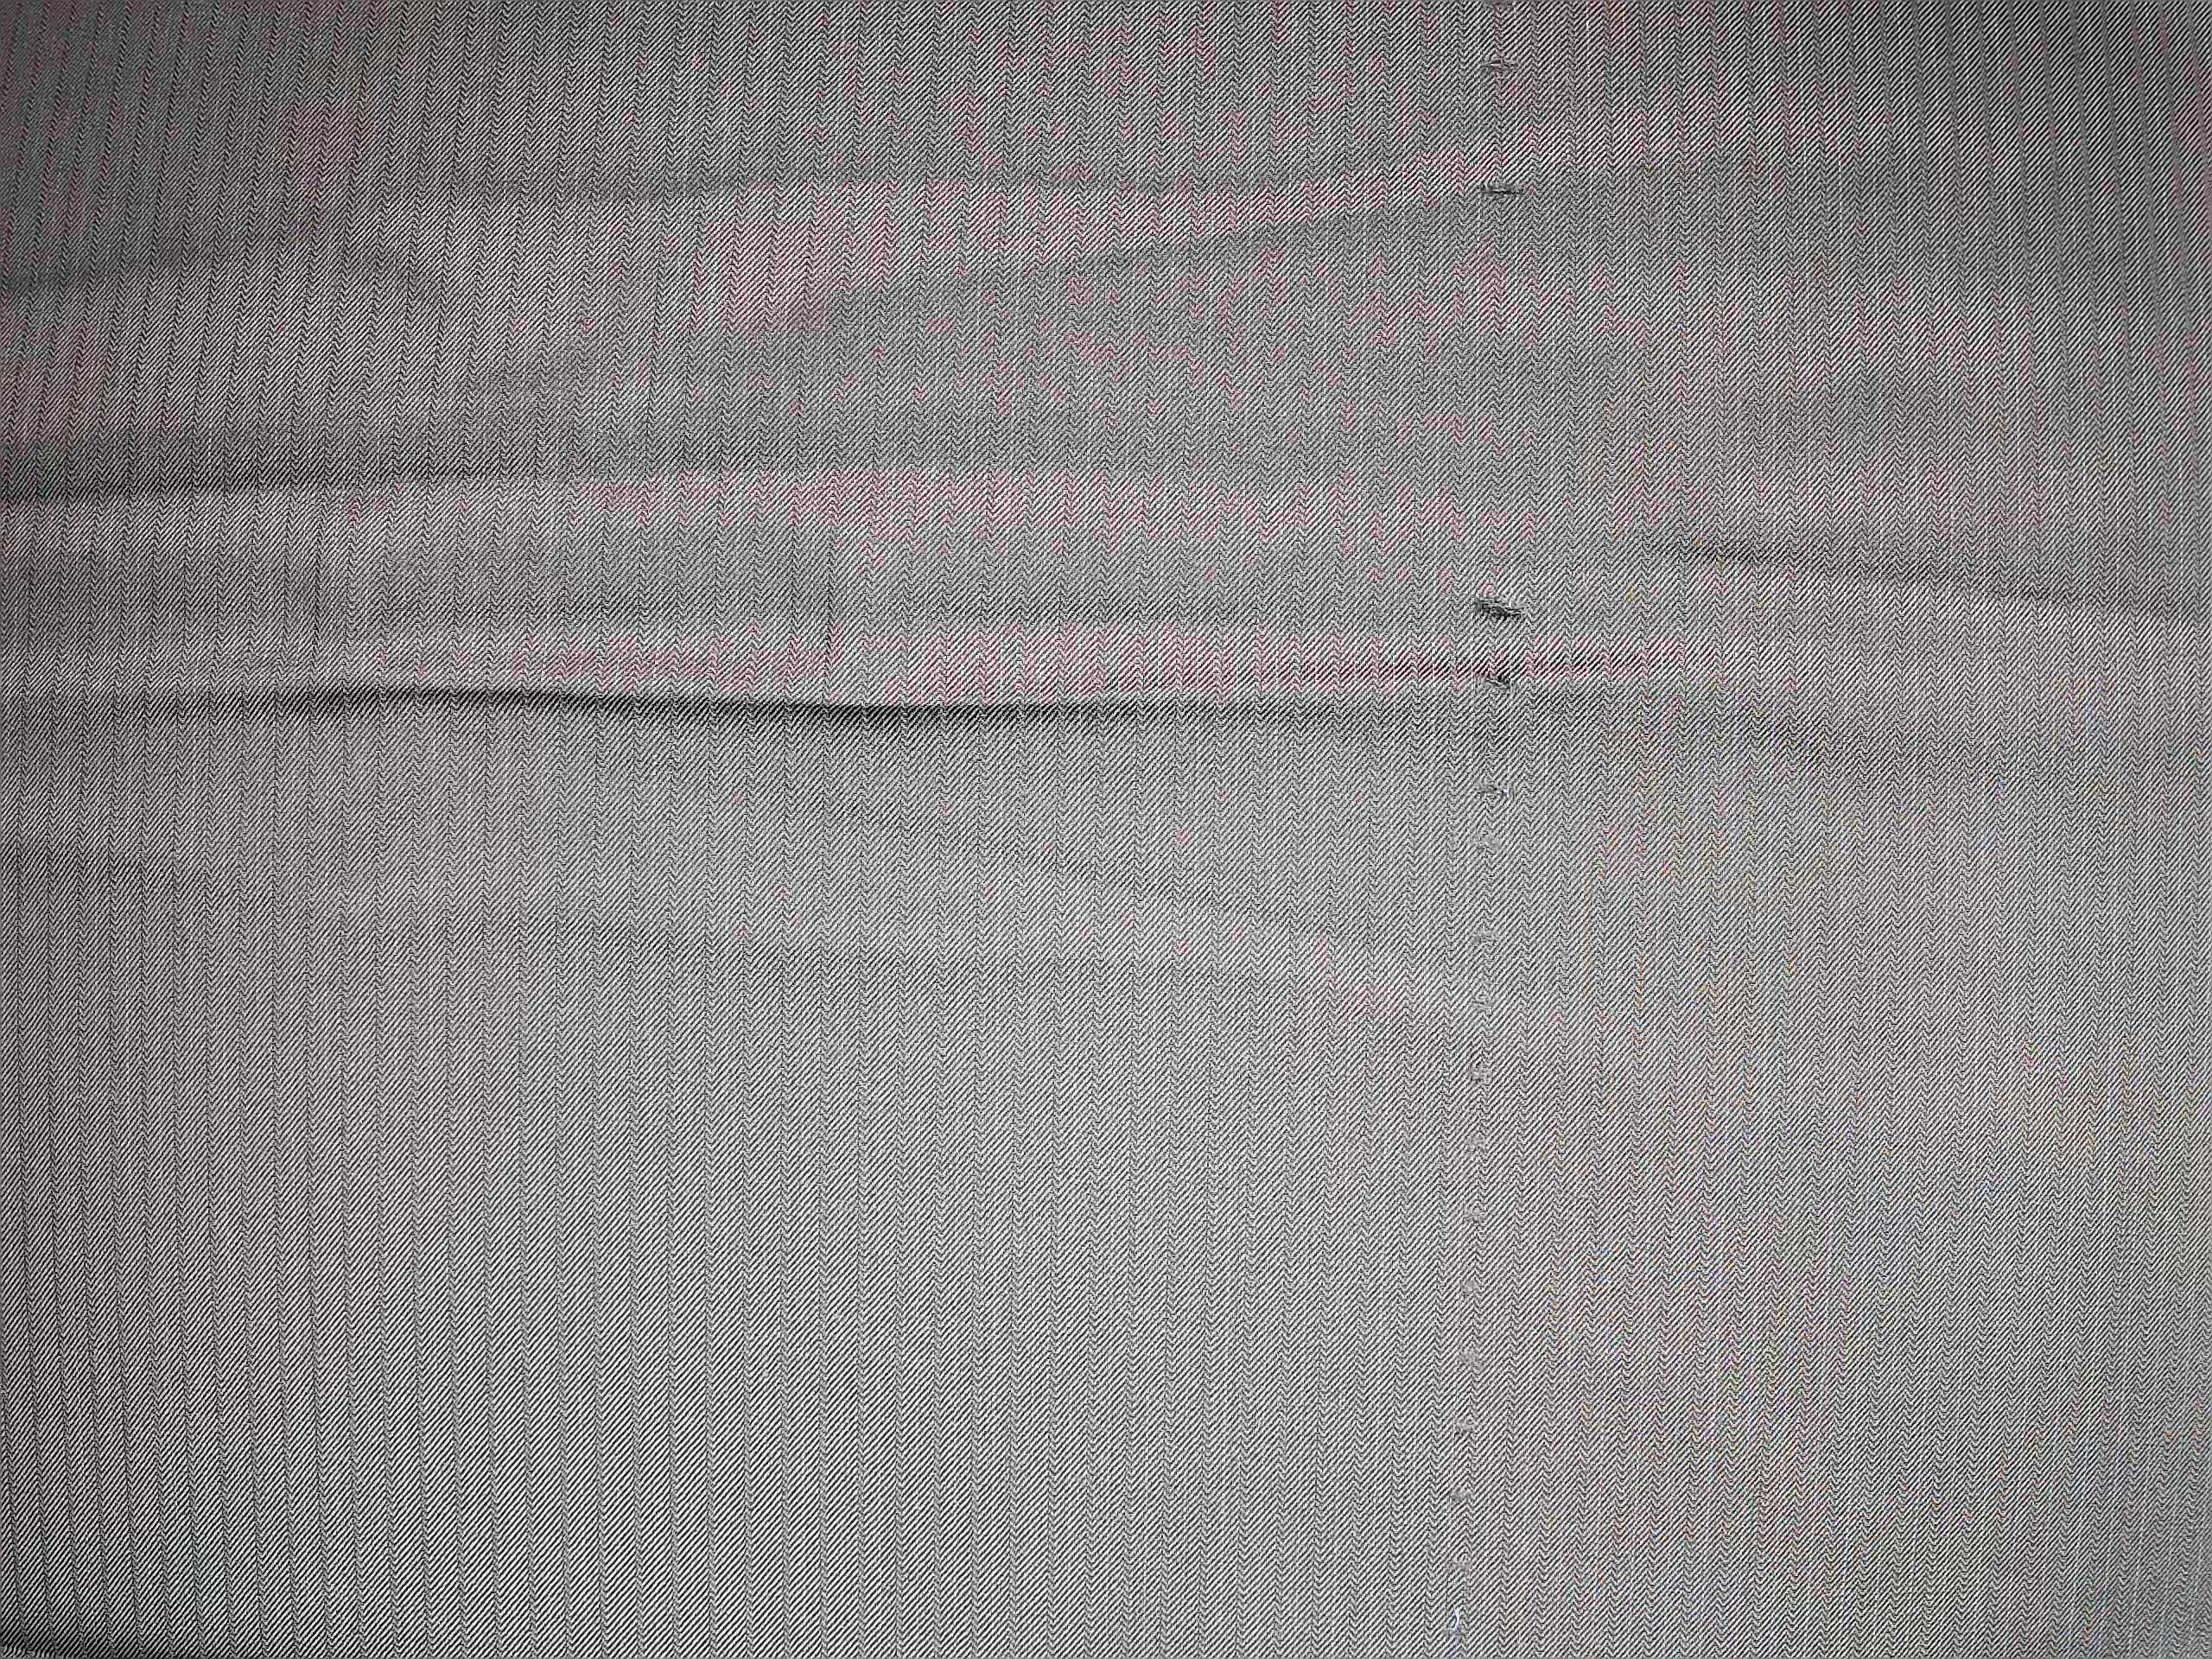puncture-hole: (1437, 566, 1548, 1575), (1444, 33, 1559, 225)
